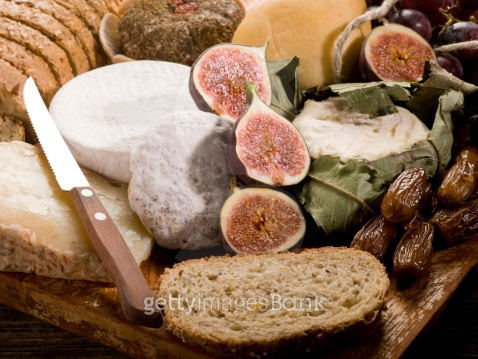slice of bread: (155, 248, 390, 344)
